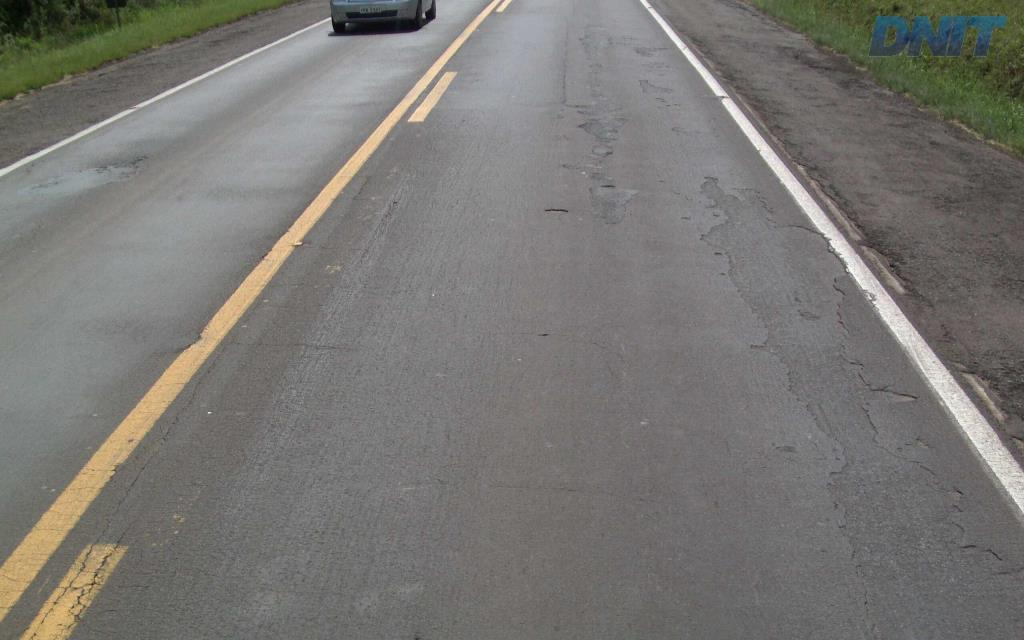pothole: (689, 168, 1022, 638), (540, 203, 575, 214), (594, 179, 620, 191)
